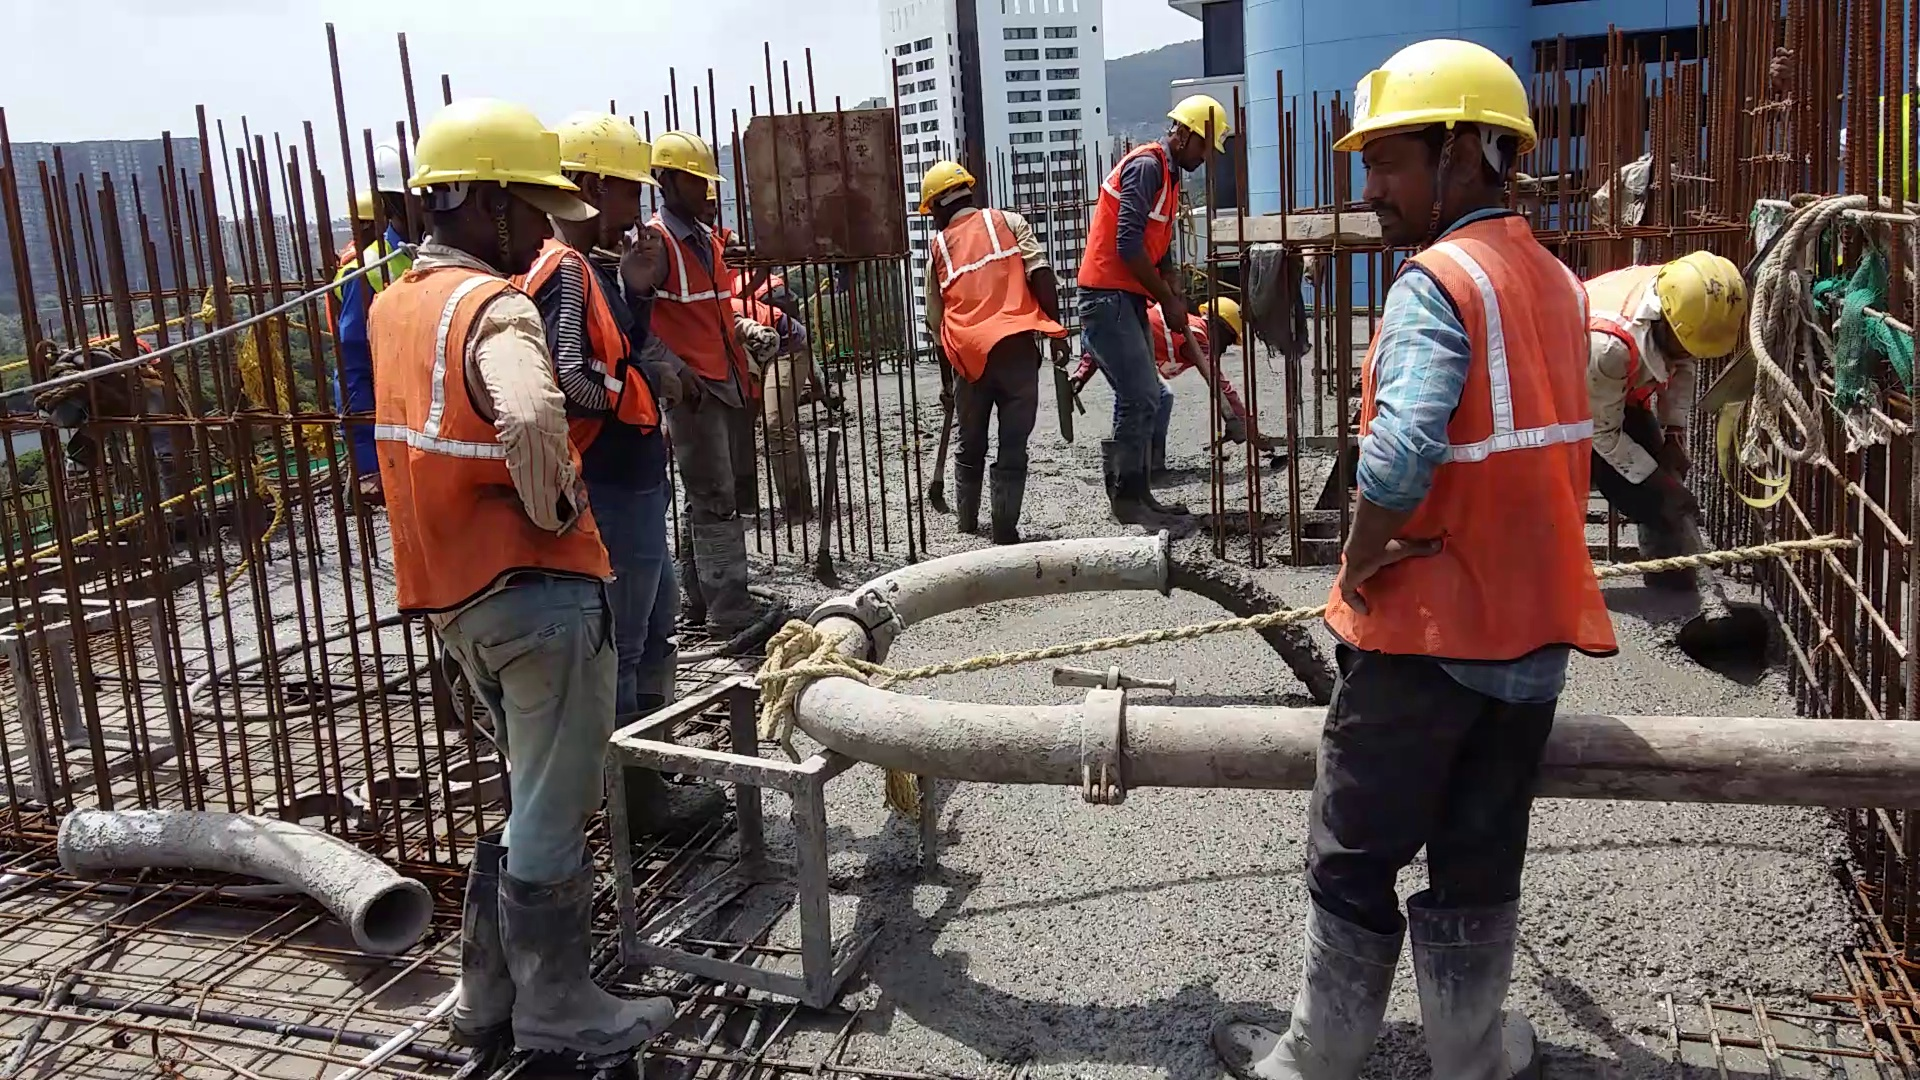SAFE: (1335, 36, 1586, 661), (372, 100, 595, 607), (1578, 247, 1751, 436), (1077, 86, 1218, 291), (646, 128, 749, 402), (916, 152, 1039, 372)
